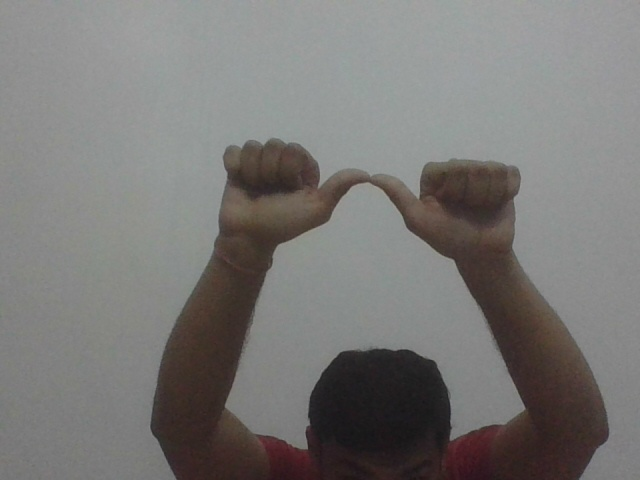A: (213, 137, 522, 256)
